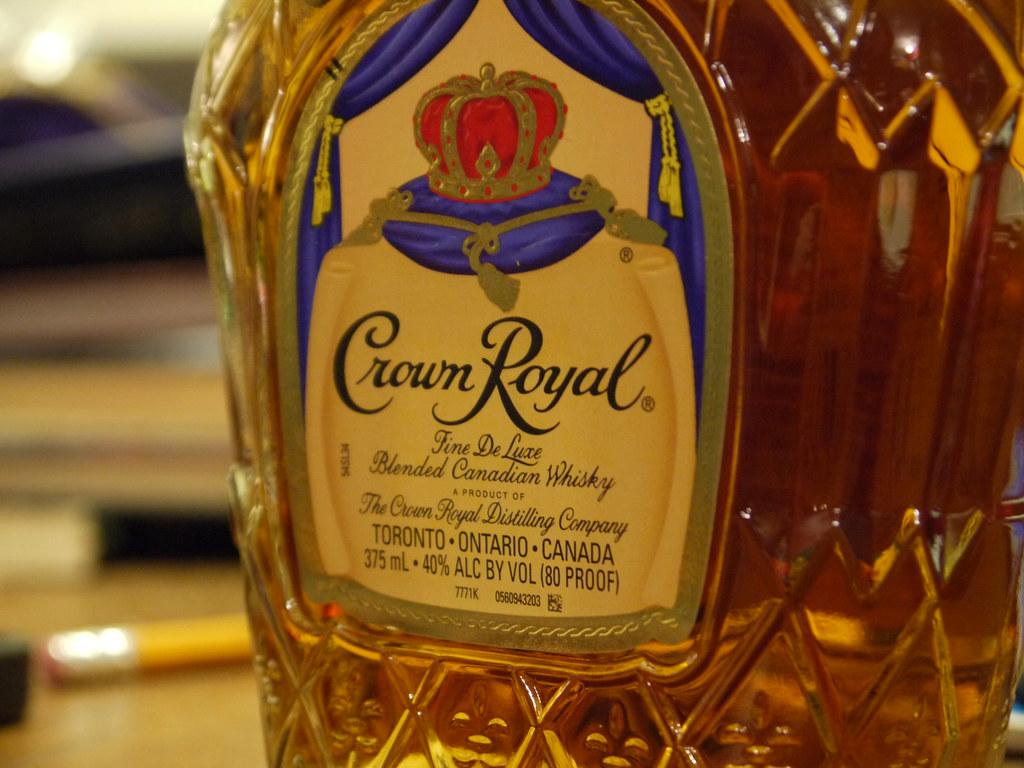bottle: (183, 1, 1024, 768)
